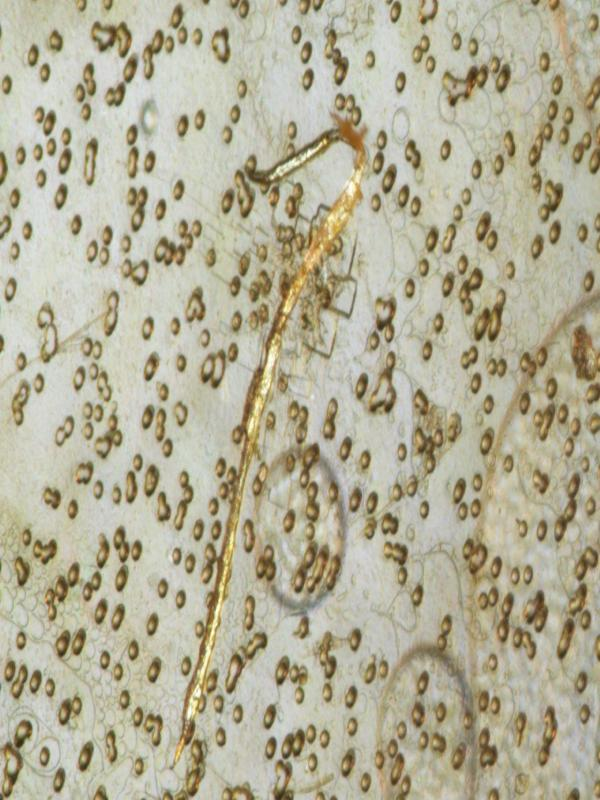microplastic: (1, 1, 598, 797), (170, 107, 368, 771)
